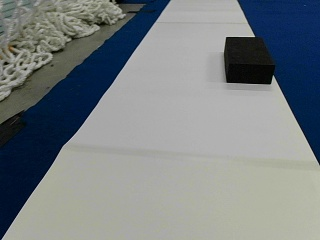block: (223, 36, 274, 84)
